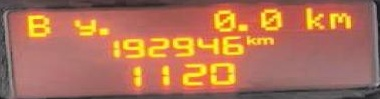-: (234, 21, 249, 30), (94, 25, 107, 35)
0: (207, 60, 235, 85), (209, 8, 235, 31), (257, 8, 281, 31)
1: (128, 63, 144, 88), (157, 63, 171, 87), (110, 37, 123, 58)
2: (180, 61, 205, 86), (145, 35, 168, 57)
4: (196, 35, 220, 55)
6: (221, 34, 245, 55)
9: (121, 36, 144, 58), (170, 35, 193, 56)
X: (20, 11, 51, 36), (301, 4, 325, 30), (323, 9, 352, 30), (70, 16, 95, 37), (255, 35, 273, 45), (245, 33, 255, 46)
